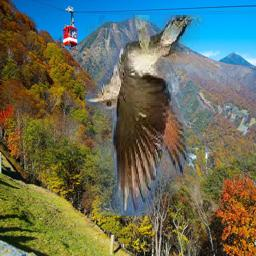Cuckoo: (85, 16, 253, 217)
